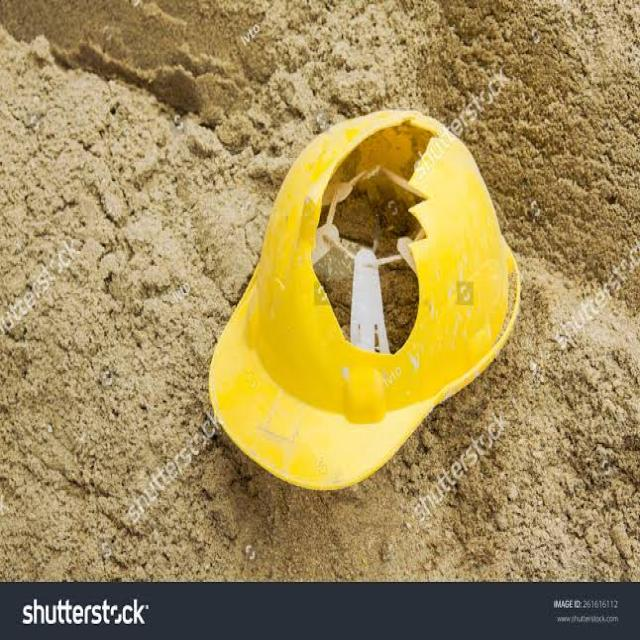BrokenHelmet: (313, 117, 438, 357)
